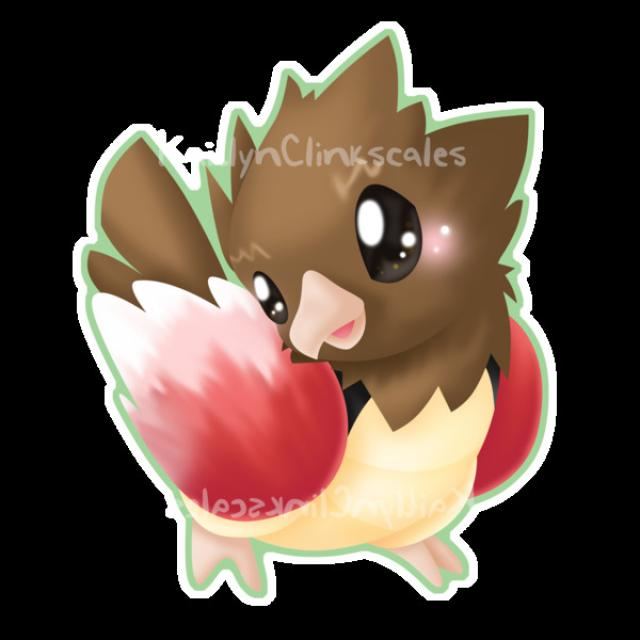Spearow: (110, 23, 554, 600)
